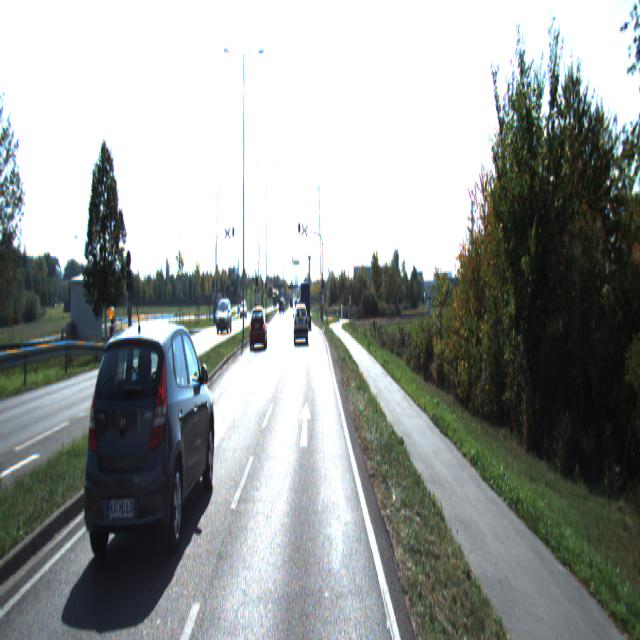Car: (78, 303, 217, 581), (249, 309, 268, 353), (216, 298, 232, 335), (294, 306, 308, 344), (301, 282, 311, 330)
